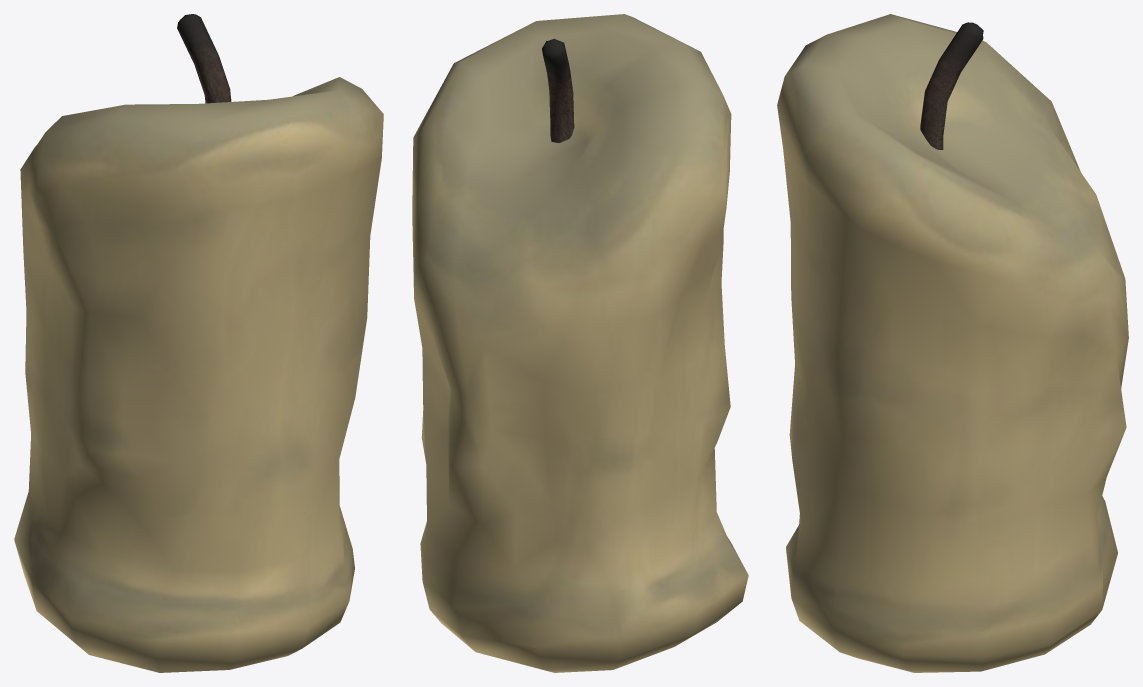
Rendered from candle.glb.
The picture shows the model from 3 angles, left to right: view 1: azimuth 30°, elevation 25°; view 2: azimuth 150°, elevation 25°; view 3: azimuth 270°, elevation 25°; orthographic projection. The views are drawn at different scales.
Visible parts, largest first — view 1: trn_Candle_Half; view 2: trn_Candle_Half; view 3: trn_Candle_Half.
Part boxes in pixels (x1,y1,x2,y2): trn_Candle_Half: (14,14,383,672); trn_Candle_Half: (412,14,748,672); trn_Candle_Half: (777,14,1128,672).
Size of the model in its own units: 0.0972 by 0.1754 by 0.093.
1 material, 1 textured.
